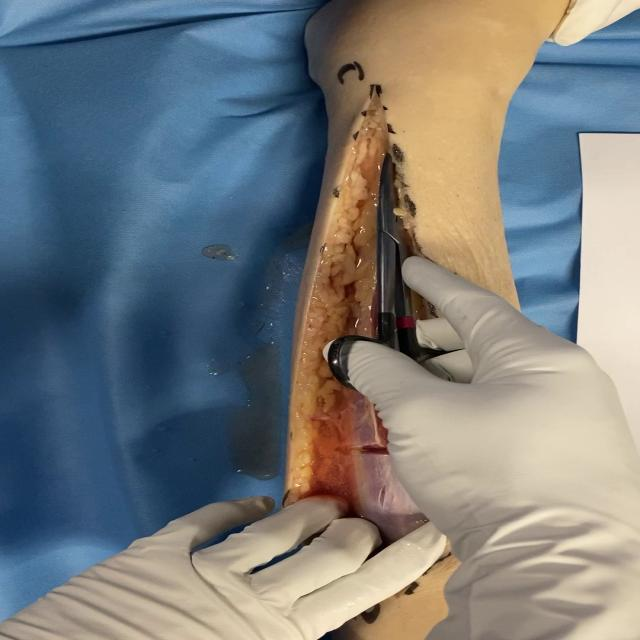scissors: (331, 149, 447, 384)
